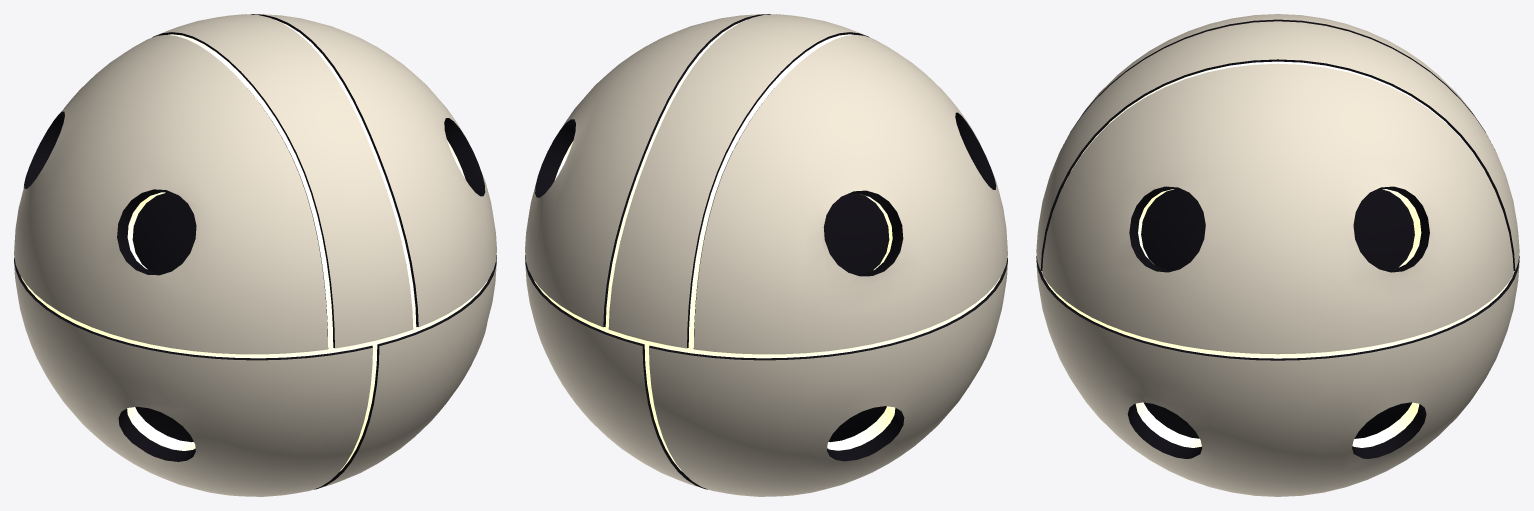
Rendered from Bunn-1t.fbx.
The picture shows the model from 3 angles, left to right: view 1: azimuth 30°, elevation 25°; view 2: azimuth 150°, elevation 25°; view 3: azimuth 270°, elevation 25°; orthographic projection.
Parts seen in each view (by area): view 1: Corpinho; view 2: Corpinho; view 3: Corpinho.
Boxes of the visible parts, x1=… form: Corpinho: x1=14, y1=14, x2=496, y2=496; Corpinho: x1=525, y1=14, x2=1007, y2=496; Corpinho: x1=1036, y1=14, x2=1519, y2=496.
Bounding box in the file's own units: 15.5 × 15.5 × 15.5.
